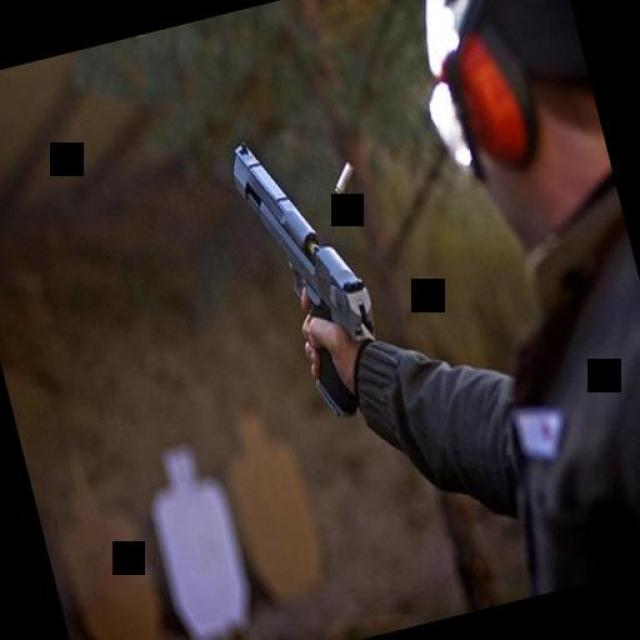gun: (218, 100, 394, 434)
